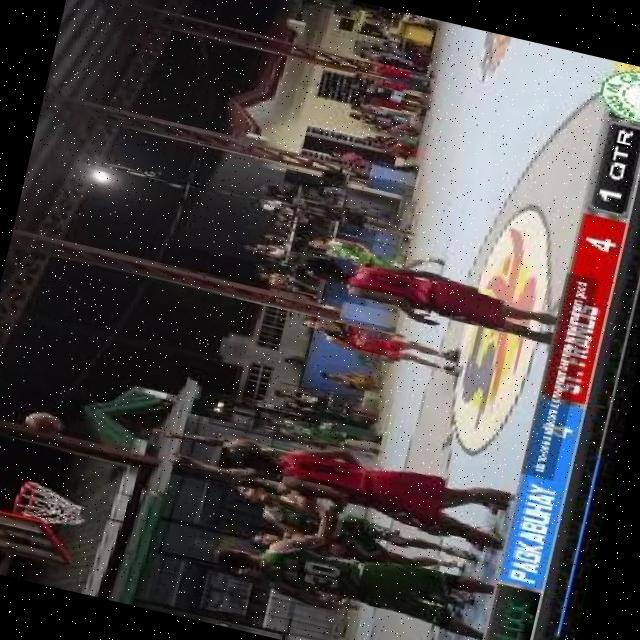ball: (24, 405, 70, 440)
hoop: (9, 474, 42, 517)
